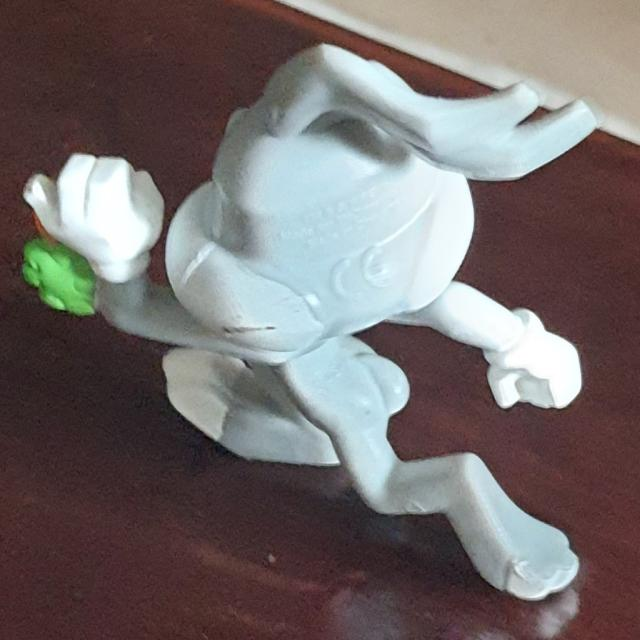Rabbit: (20, 40, 599, 601)
